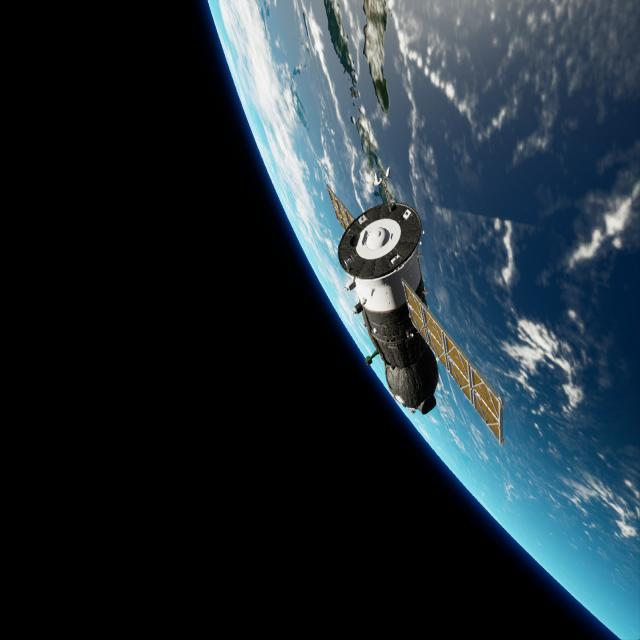Satellites revolving around earth: (325, 172, 507, 447)
